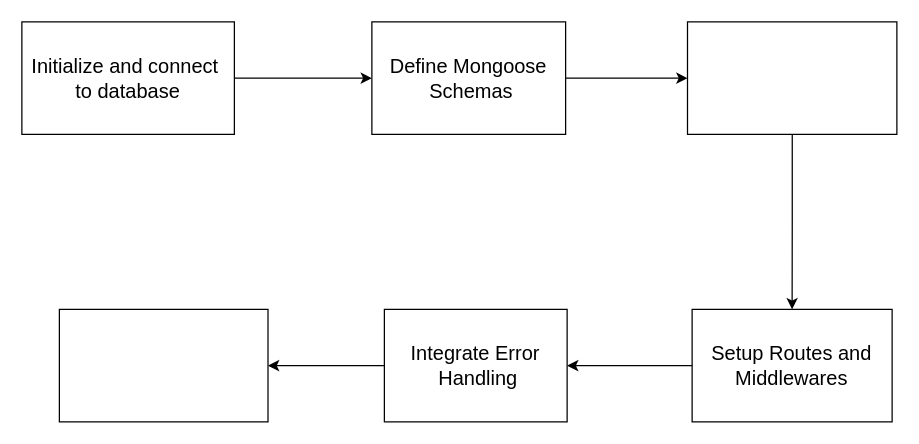
Image size: 919x444. Some labels were removed from this diagram. The shapes that lost their labels are listed below. From the top down, each one's centre as x and y in pixels, then its label:
At (x=791, y=77): "Implement the necessary controllers".
At (x=163, y=365): "Test the API Endpoints".
